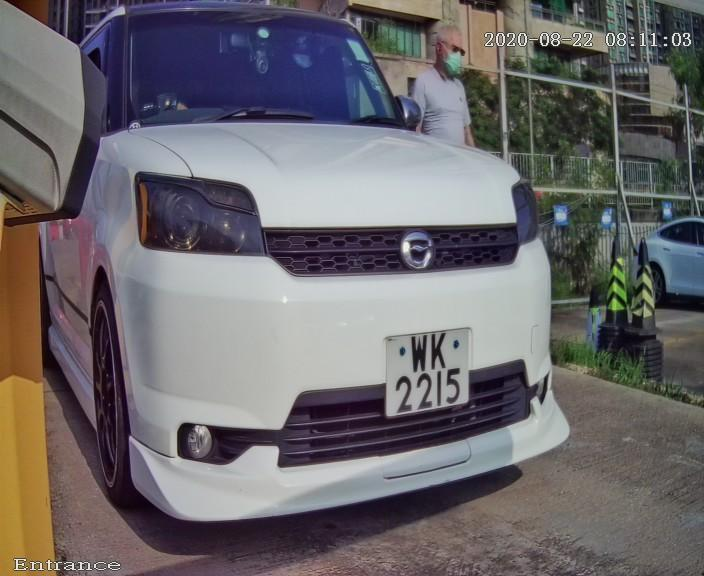Car: (10, 1, 623, 553)
License Plate: (375, 319, 481, 427)
